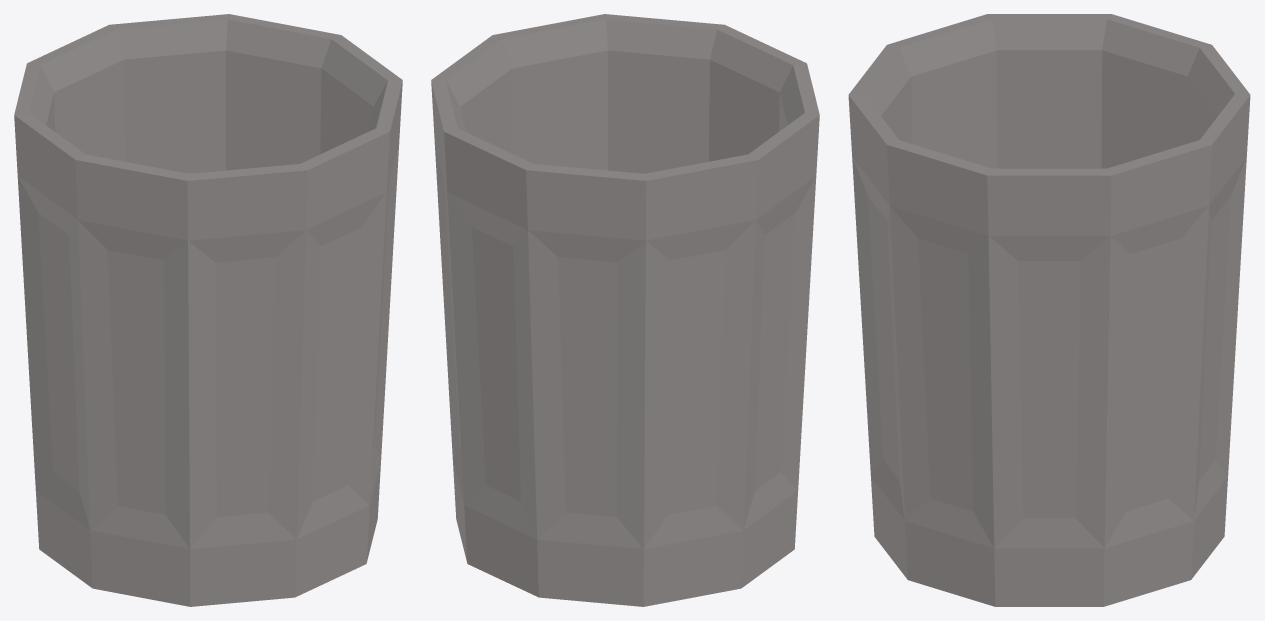
The model's file is trash-can-base.glb.
3 renders of one model, left to right at view 1: azimuth 30°, elevation 25°; view 2: azimuth 150°, elevation 25°; view 3: azimuth 270°, elevation 25°, orthographic.
Visible parts, largest first — view 1: trash-can-base; view 2: trash-can-base; view 3: trash-can-base.
Boxes of the visible parts, <box> form: trash-can-base: <box>14,14,402,606</box>; trash-can-base: <box>431,14,819,606</box>; trash-can-base: <box>848,14,1250,606</box>.
Size of the model in its own units: 0.4985 by 0.6369 by 0.5242.
1 material, 1 textured.
